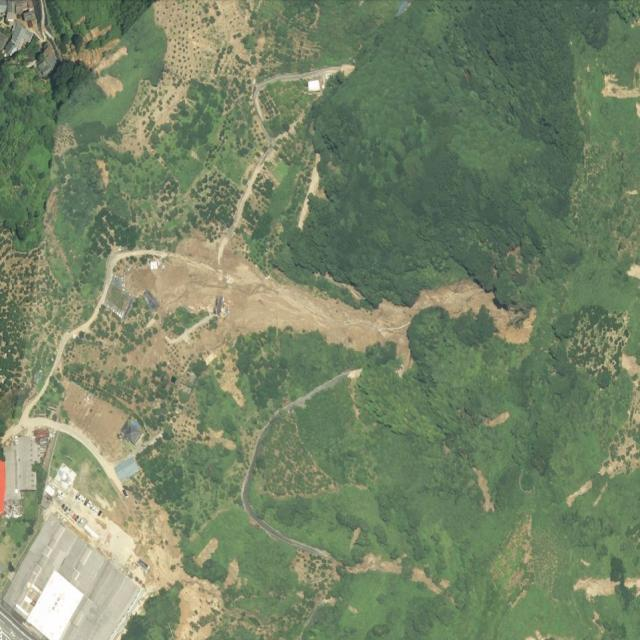landslide: (155, 237, 537, 371)
